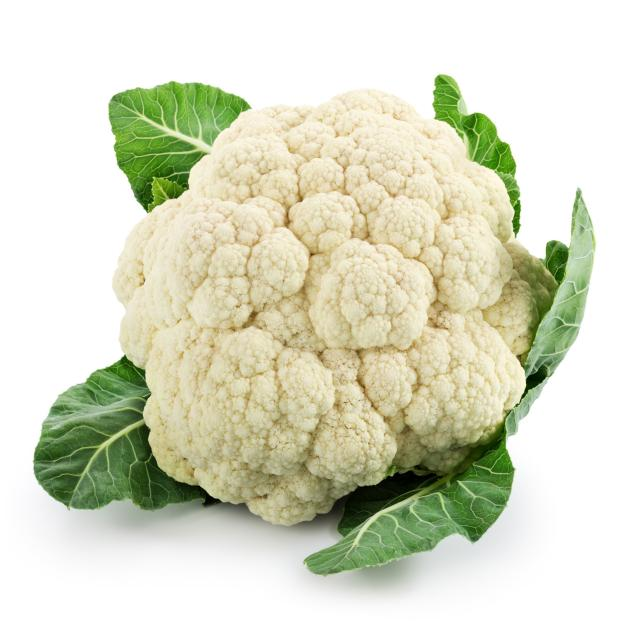cauliflower: (99, 71, 569, 537)
